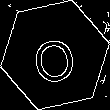O_N: (29, 26, 81, 84)
